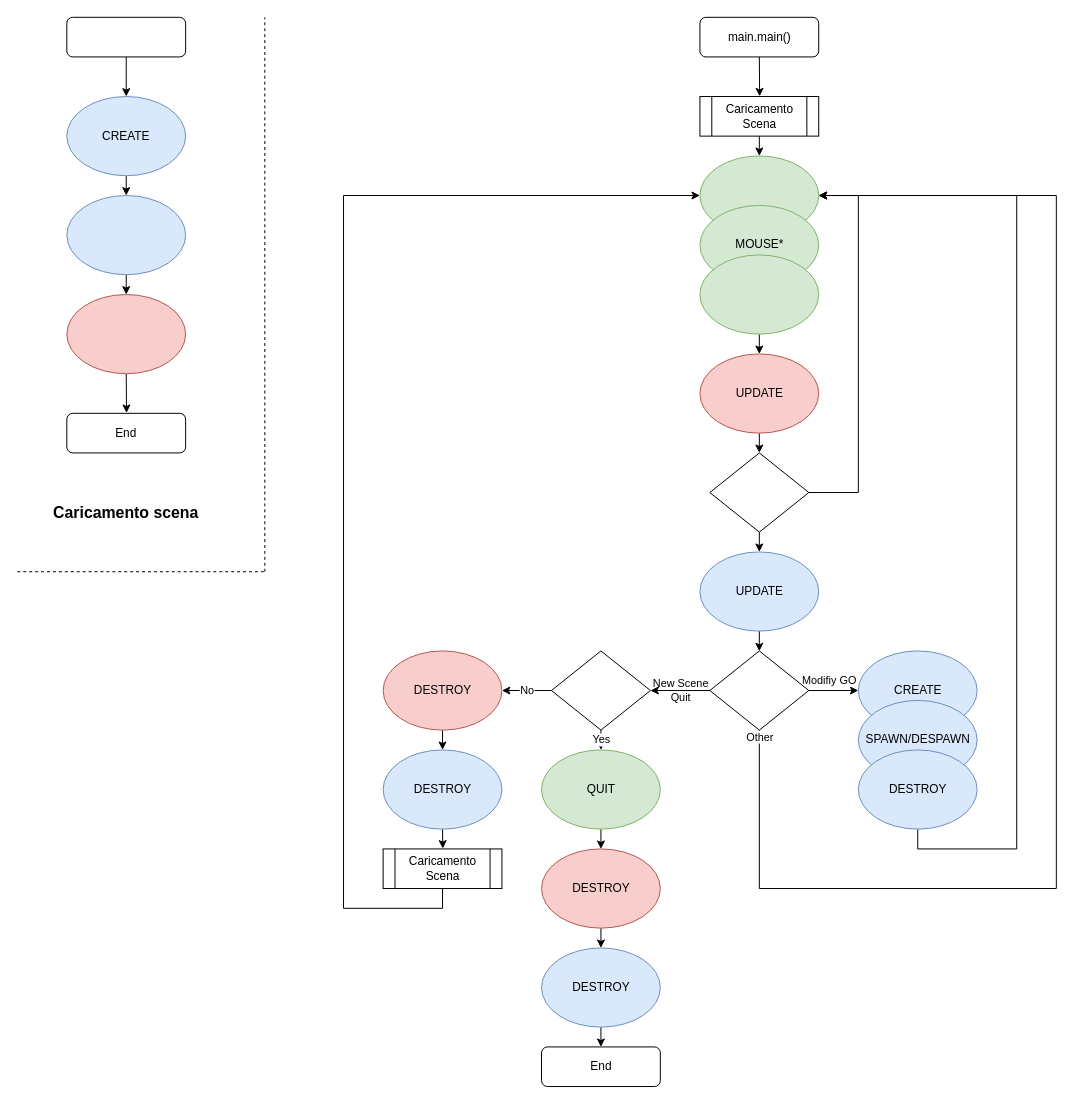
Image size: 1082x1104. Some labels were removed from this diagram. The shapes that lost their labels are listed below. From the top down, each one's box as (x1, y1, x2, y2) in pixels, then its label:
(66, 16, 186, 57): scenloader.load()
(699, 155, 819, 235): KEY*
(66, 195, 186, 275): SPAWN
(699, 254, 819, 334): ACTIVE
(66, 294, 186, 374): ACTIVATE
(709, 452, 809, 532): Is GObj spawned?
(550, 650, 650, 730): Quit?
(709, 650, 809, 730): Component update
